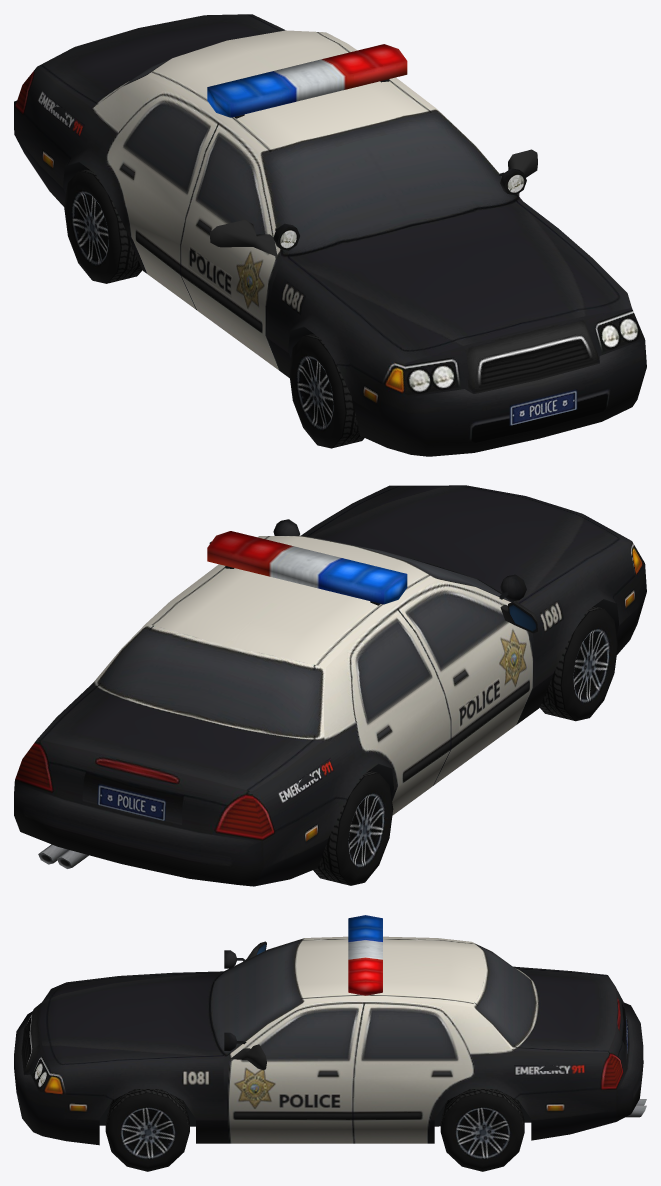
The model's file is police-sheriff-etoile.glb.
3 renders of one model, top to bottom at view 1: azimuth 30°, elevation 25°; view 2: azimuth 150°, elevation 25°; view 3: azimuth 270°, elevation 25°, orthographic. The views are drawn at different scales.
Visible parts, largest first — view 1: Body_0, Pneu_RR_4, Pneu_FR_2, Gyrophare_D, Gyrophare_G; view 2: Body_0, Pneu_FR_2, Pneu_RR_4, Gyrophare_D, Gyrophare_G; view 3: Body_0, Pneu_RL_3, Pneu_FL_1, Gyrophare_G, Gyrophare_D.
Part boxes in pixels (box(x1,y1,x2,y2)): Body_0: box(14, 14, 646, 456); Pneu_RR_4: box(64, 169, 142, 283); Pneu_FR_2: box(289, 333, 364, 448); Gyrophare_D: box(207, 49, 404, 117); Gyrophare_G: box(210, 44, 407, 103); Body_0: box(14, 485, 646, 886); Pneu_FR_2: box(540, 606, 618, 721); Pneu_RR_4: box(313, 771, 393, 885); Gyrophare_D: box(209, 536, 407, 604); Gyrophare_G: box(207, 531, 405, 590); Body_0: box(14, 936, 646, 1145); Pneu_RL_3: box(440, 1089, 524, 1171); Pneu_FL_1: box(105, 1089, 189, 1171); Gyrophare_G: box(348, 918, 382, 995); Gyrophare_D: box(348, 915, 382, 980).
Size of the model in its own units: 2.45 by 1.67 by 5.51.
1 material, 1 textured.
